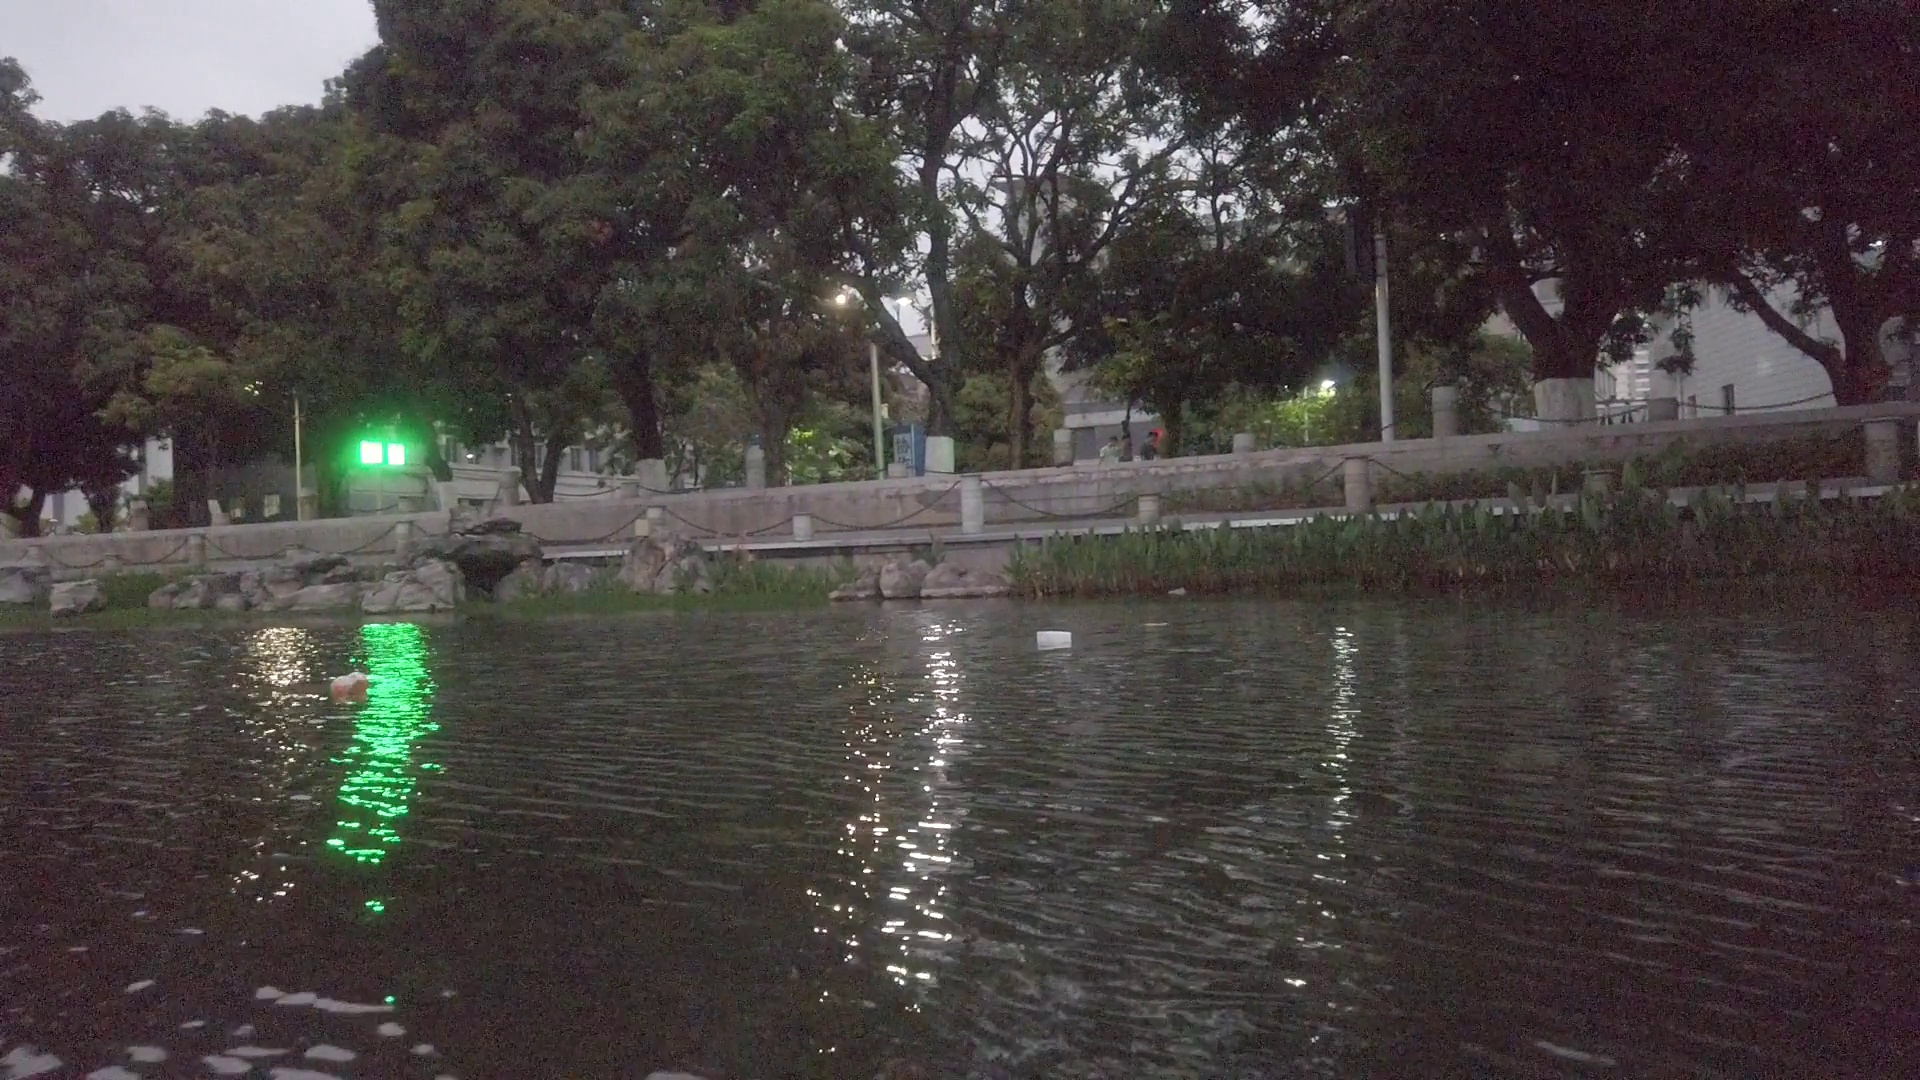bottle: (330, 669, 369, 698)
carton: (1033, 630, 1072, 651)
